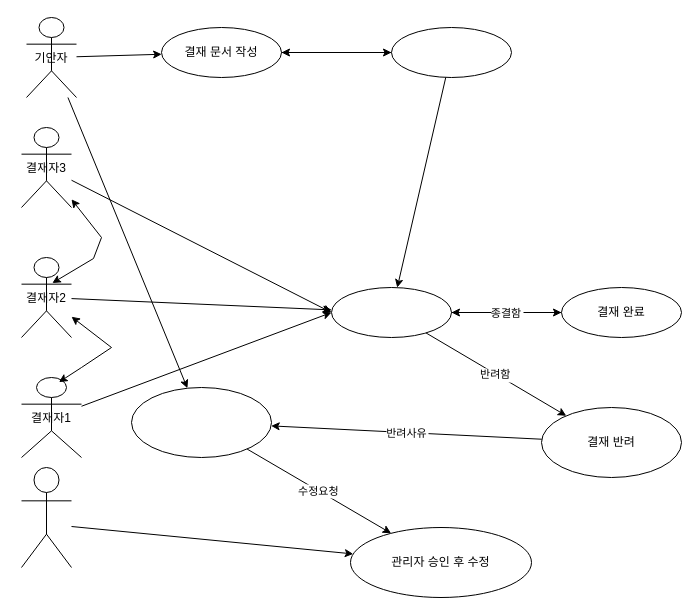
The diagram is 699 pixels wide and 615 high, and some of its shapes have lost their labels. Each missing label, with the centre of its shape:
"결재 요청" belongs at point 451,52.
"결재 진행" belongs at point 391,312.
"문서 수정" belongs at point 201,422.
"인사 관리자" belongs at point 46,517.
